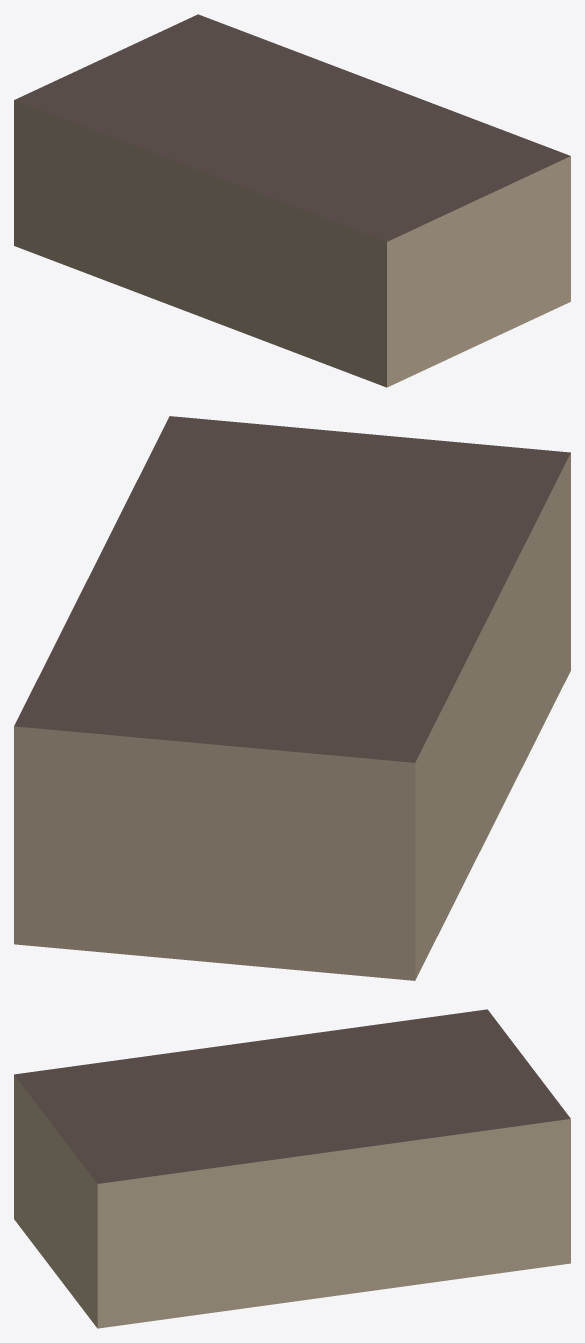
The picture shows the model from 3 angles, top to bottom: view 1: azimuth 30°, elevation 25°; view 2: azimuth 150°, elevation 25°; view 3: azimuth 270°, elevation 25°; orthographic projection. The views are drawn at different scales.
Parts seen in each view (by area): view 1: HP-w859467782; view 2: HP-w859467782; view 3: HP-w859467782.
Part boxes in pixels (left/top/right/bottom): HP-w859467782: left=14, top=14, right=570, bottom=387; HP-w859467782: left=14, top=416, right=570, bottom=980; HP-w859467782: left=14, top=1009, right=570, bottom=1328.
Bounding box in the file's own units: 23.31 × 9 × 31.41.
